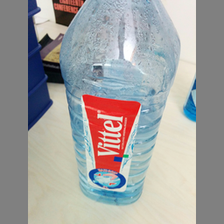water: (58, 1, 181, 204)
